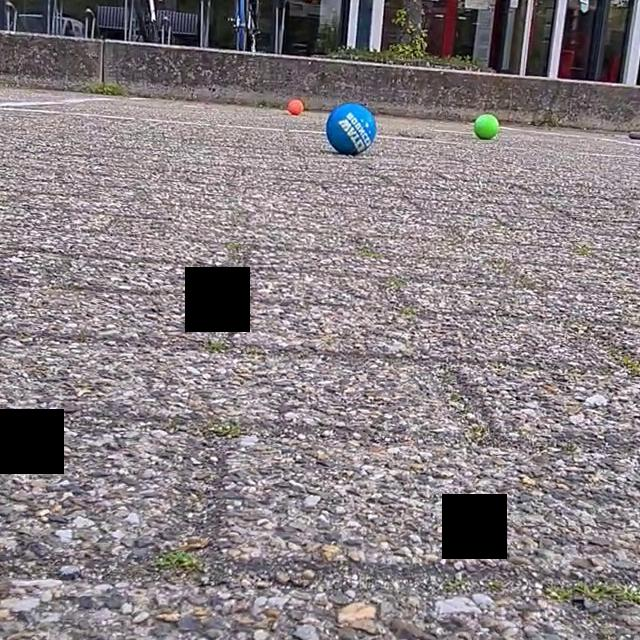ball: (472, 109, 500, 142)
